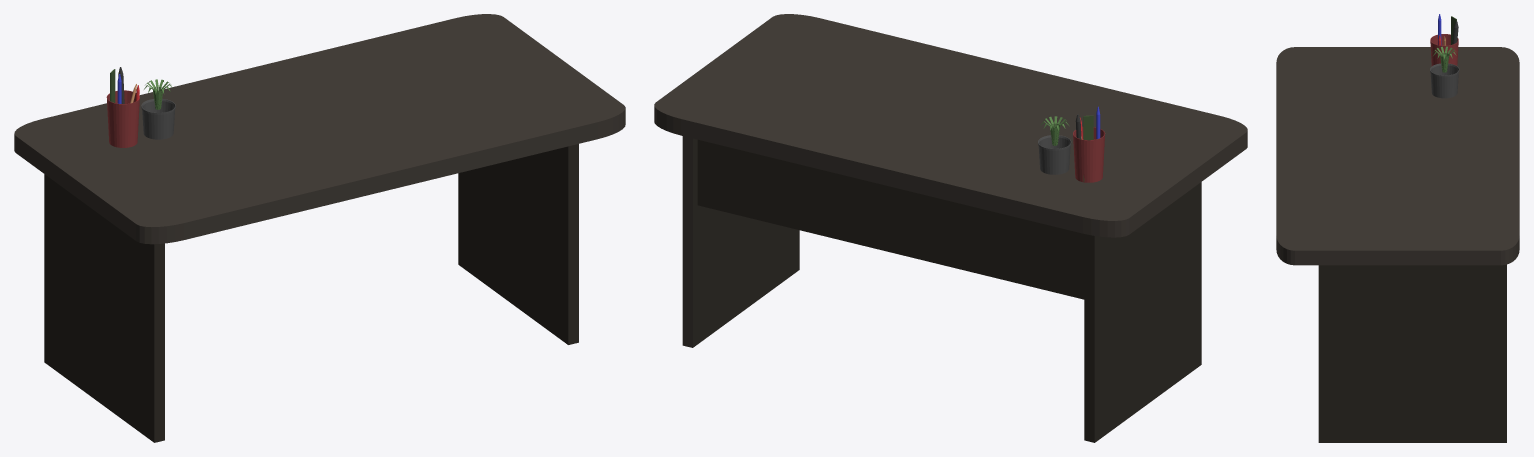
File: bureau chambre.fbx
The picture shows the model from 3 angles, left to right: view 1: azimuth 30°, elevation 25°; view 2: azimuth 150°, elevation 25°; view 3: azimuth 270°, elevation 25°; orthographic projection. The views are drawn at different scales.
Parts seen in each view (by area): view 1: Cube.012; view 2: Cube.012; view 3: Cube.012.
Boxes of the visible parts, x1,y1,x2,y2 form: Cube.012: (14,14,625,442); Cube.012: (654,14,1247,442); Cube.012: (1276,14,1519,442).
Bounding box in the file's own units: 154 × 93.95 × 77.66.
